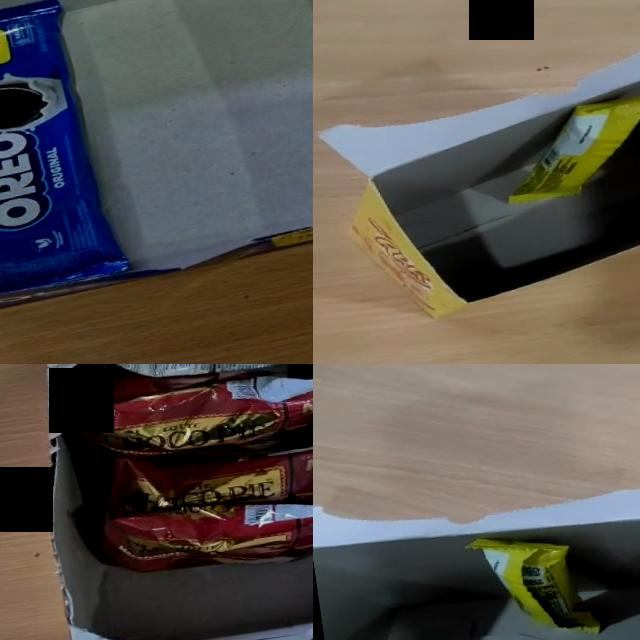Ahh: (496, 89, 640, 205), (463, 523, 602, 640)
Chocopie: (72, 364, 313, 471), (96, 422, 313, 532), (94, 481, 313, 588), (87, 364, 313, 391)
Oreo: (0, 0, 131, 301)
